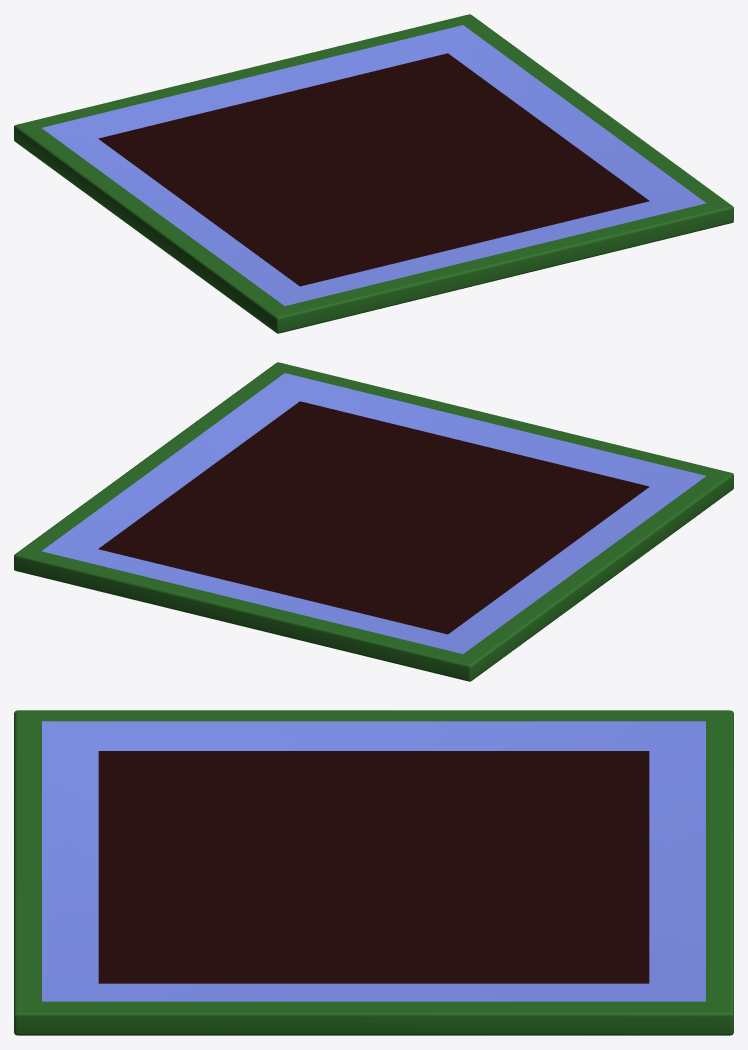
Rendered from Section005.fbx.
3 renders of one model, top to bottom at view 1: azimuth 30°, elevation 25°; view 2: azimuth 150°, elevation 25°; view 3: azimuth 270°, elevation 25°, orthographic. The views are drawn at different scales.
Visible parts, largest first — view 1: Section005; view 2: Section005; view 3: Section005.
Part boxes in pixels (<box>): Section005: <box>14,14,733,333</box>; Section005: <box>14,362,733,681</box>; Section005: <box>14,710,733,1035</box>.
Bounding box in the file's own units: 200 × 7 × 200.
